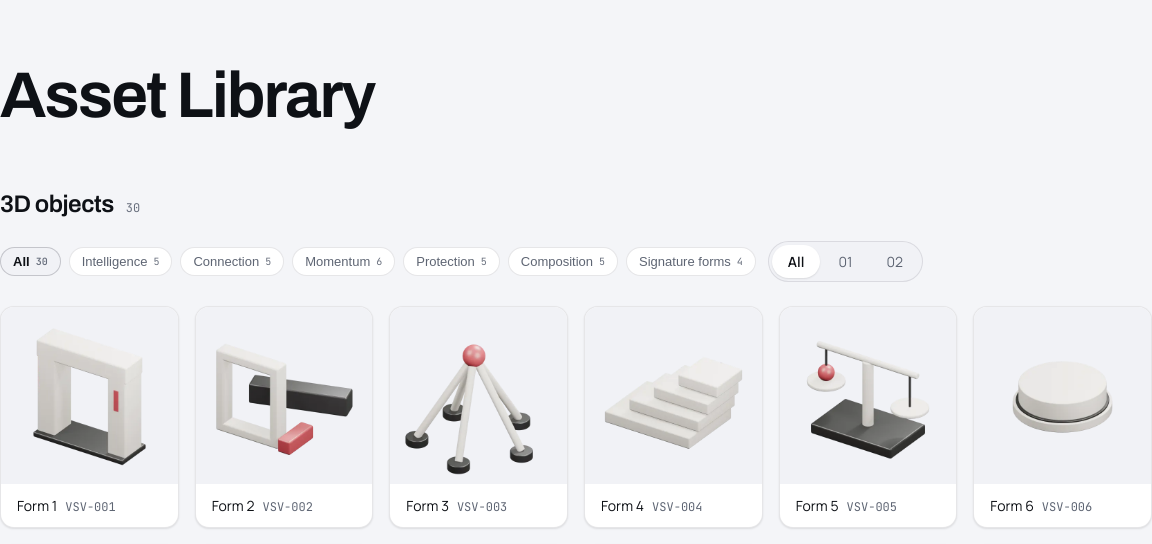
Test: AssetLibraryPage › filters objects by family and edition
Click the button "Momentum 6": coordinates (344, 262) [292,247,395,276]
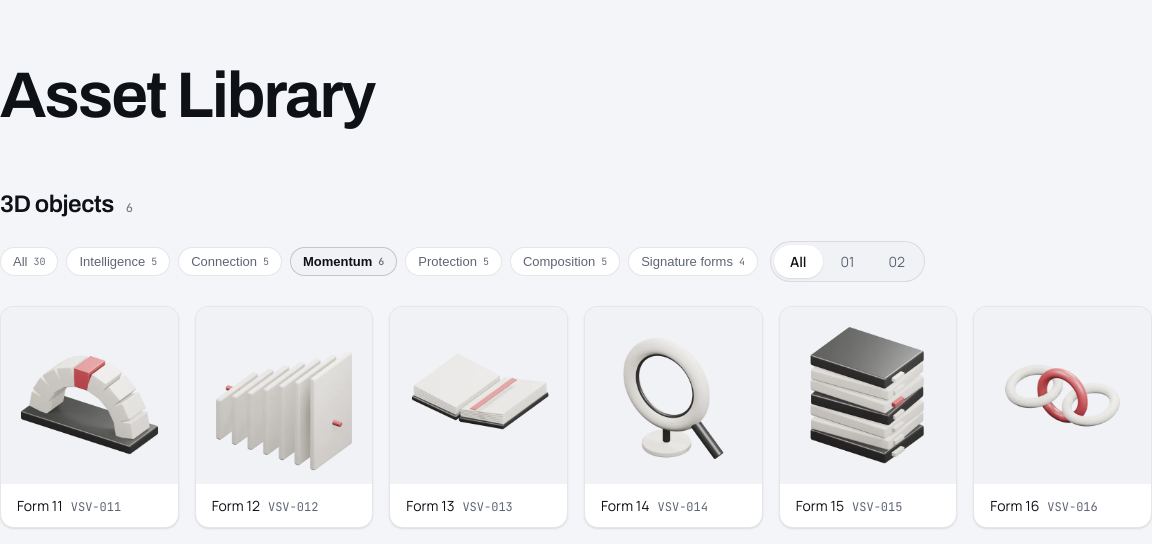
Expected: the number of buttons named "Open form" is 6, [0,306,179,528]; [195,306,373,528]; [389,306,568,528]; [584,306,763,528]; [779,306,957,528]; [973,306,1151,528]
Click the button "All 30": coordinates (29, 262) [0,247,58,276]
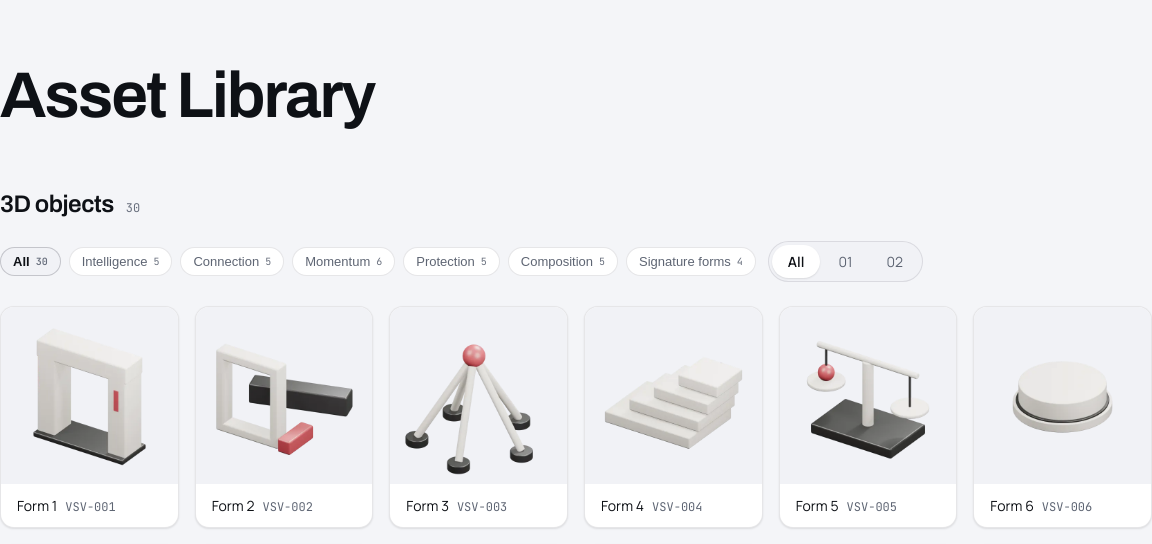
Click the tab "02": coordinates (895, 262) [870,245,919,278]
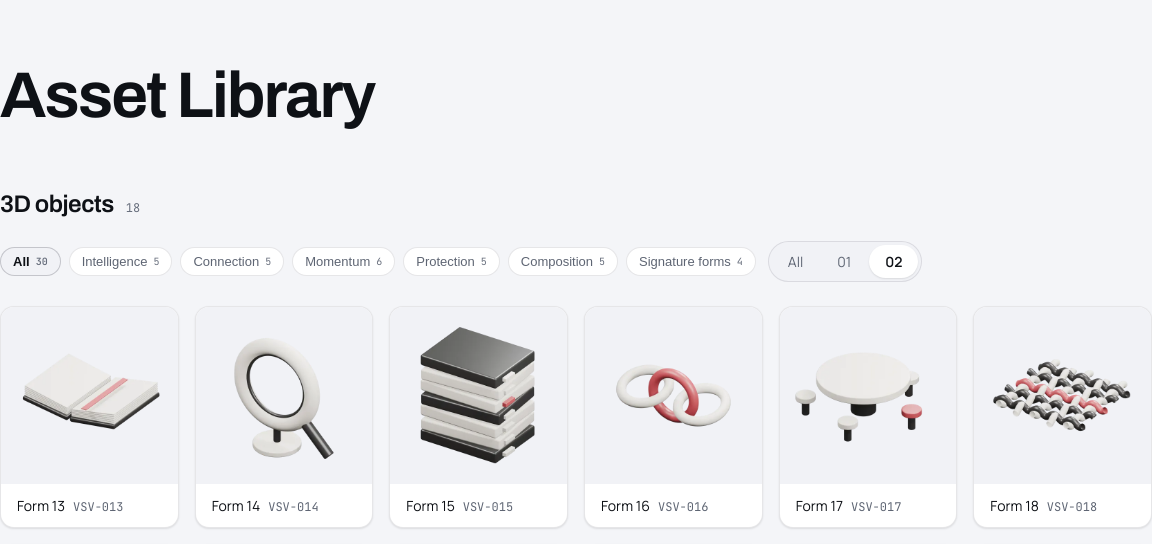
Expected: the number of buttons named "Open form" is 18
